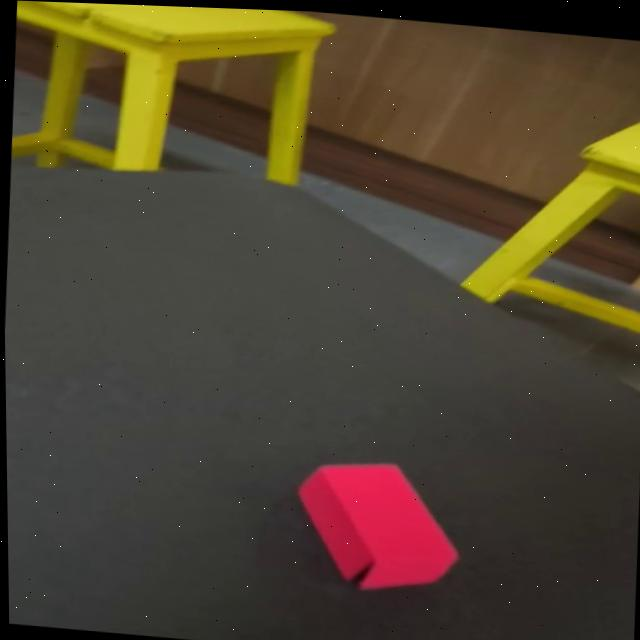red block: (291, 453, 465, 597)
